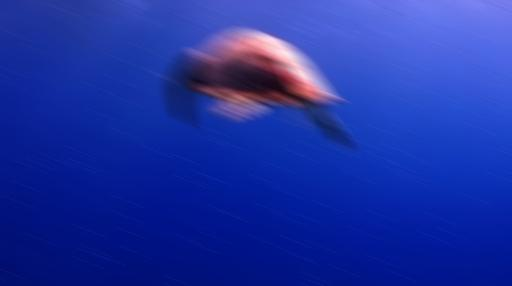Fish: (170, 29, 347, 148)
